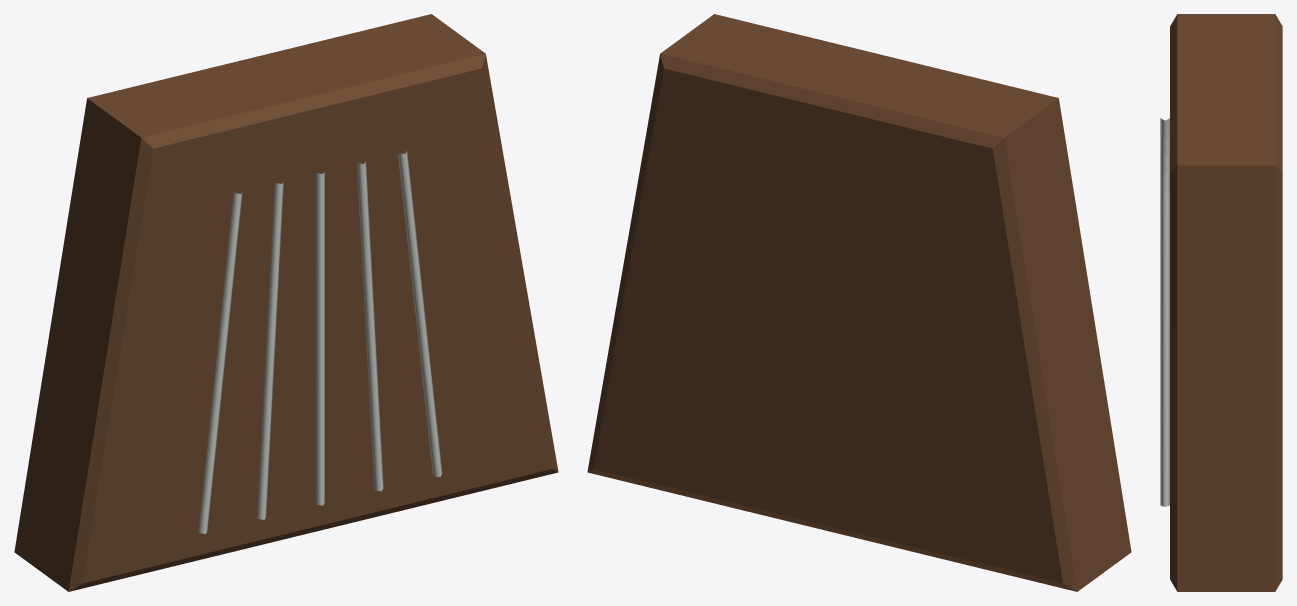
Rendered from dulcimer.glb.
3 renders of one model, left to right at view 1: azimuth 30°, elevation 25°; view 2: azimuth 150°, elevation 25°; view 3: azimuth 270°, elevation 25°, orthographic. The views are drawn at different scales.
Visible parts, largest first — view 1: dulcimer-body, dulcimer-string (×5); view 2: dulcimer-body; view 3: dulcimer-body, dulcimer-string (×5).
Boxes of the visible parts, x1=… form: dulcimer-body: x1=14, y1=14, x2=558, y2=591; dulcimer-string (×5): x1=198, y1=150, x2=442, y2=534; dulcimer-body: x1=587, y1=14, x2=1131, y2=591; dulcimer-body: x1=1170, y1=14, x2=1282, y2=591; dulcimer-string (×5): x1=1160, y1=118, x2=1169, y2=506.
Size of the model in its own units: 0.4173 by 0.3553 by 0.1.
